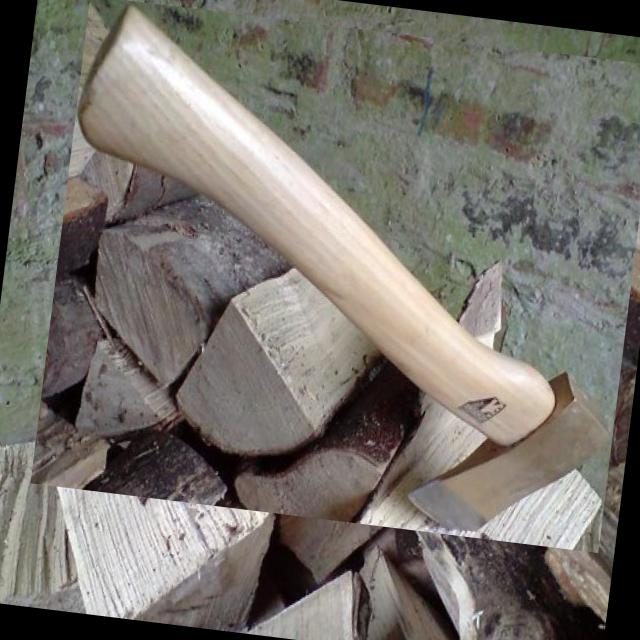Axe: (77, 1, 611, 536)
